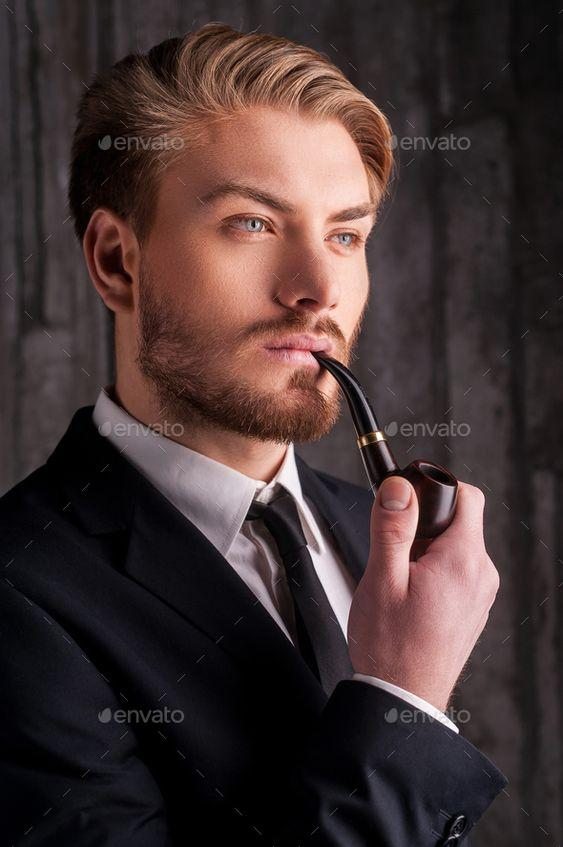trubka: (313, 353, 457, 537)
